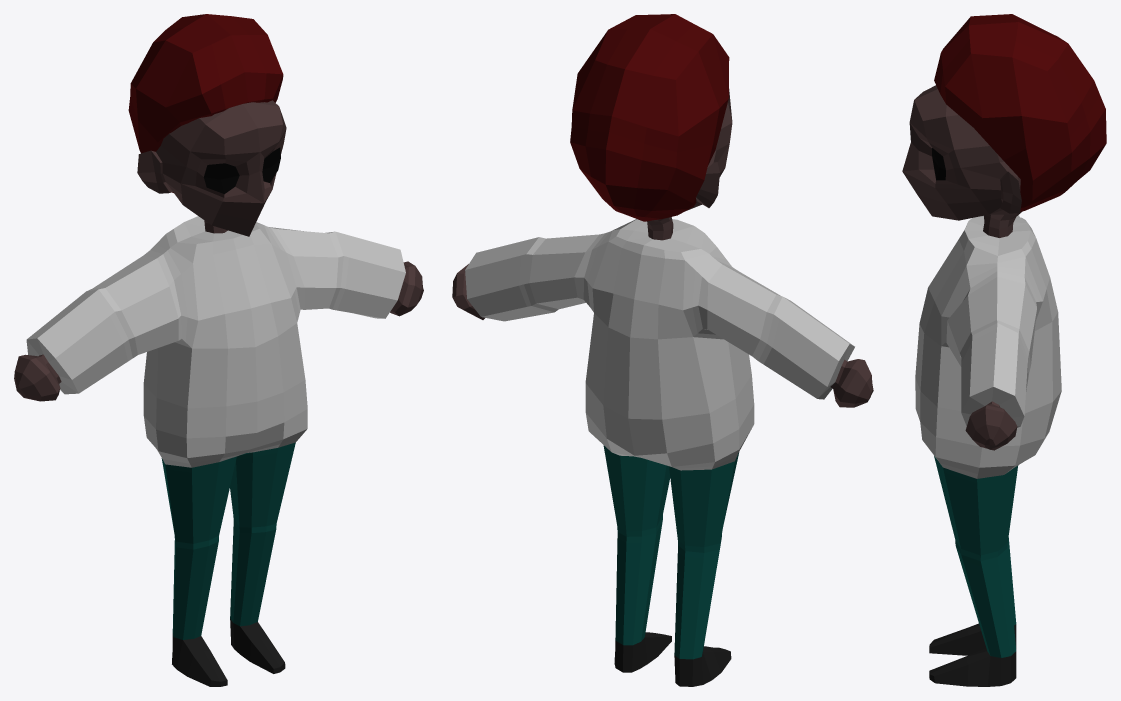
The model's file is Personaje.fbx.
3 views of the same model, side by side, from view 1: azimuth 30°, elevation 25°; view 2: azimuth 150°, elevation 25°; view 3: azimuth 270°, elevation 25° (orthographic). The views are drawn at different scales.
Parts seen in each view (by area): view 1: Character; view 2: Character; view 3: Character.
Part boxes in pixels (x1,y1,x2,y2): Character: (14,14,423,686); Character: (452,14,873,686); Character: (902,14,1106,686).
Size of the model in its own units: 48.51 by 72.52 by 20.91.
